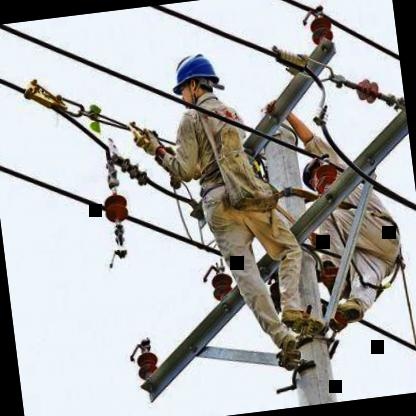helmet: (166, 43, 230, 115)
